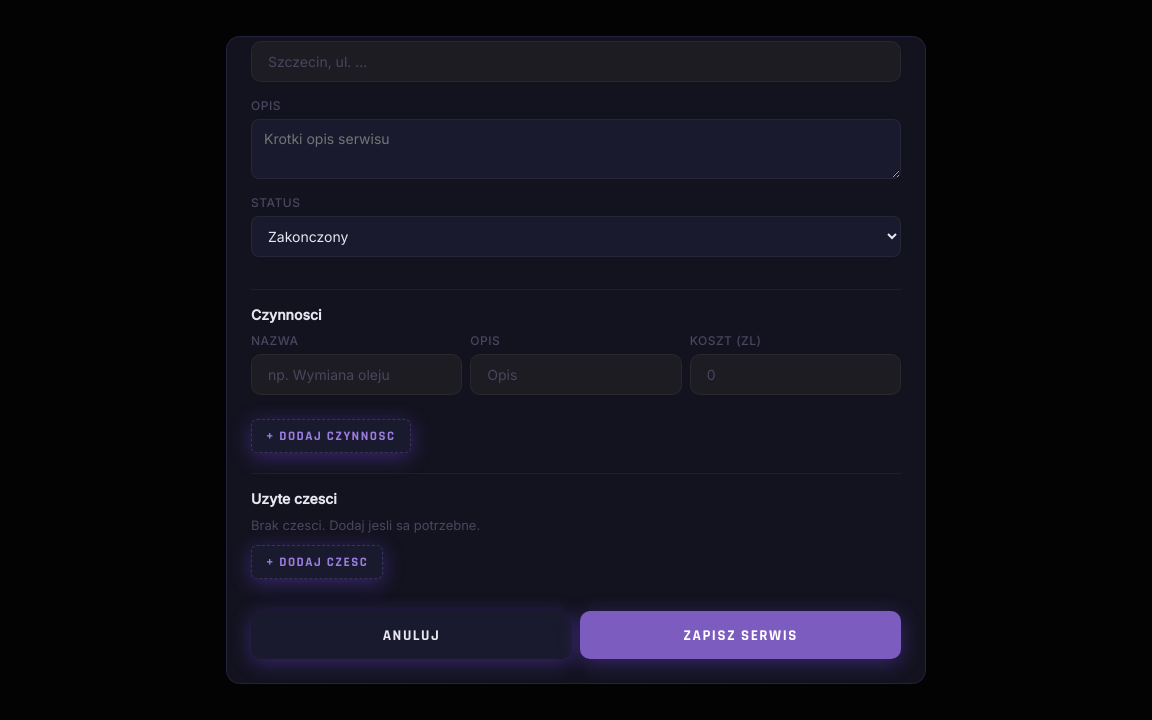
Test: ServiceForm › dodaje i usuwa czesc
(page scrolled)
Expected: the text "Brak czesci. Dodaj jesli sa potrzebne." is shown, [251,517,480,533]
Click the button "+ Dodaj czesc".
click(317, 562)  # box [251,545,383,579]
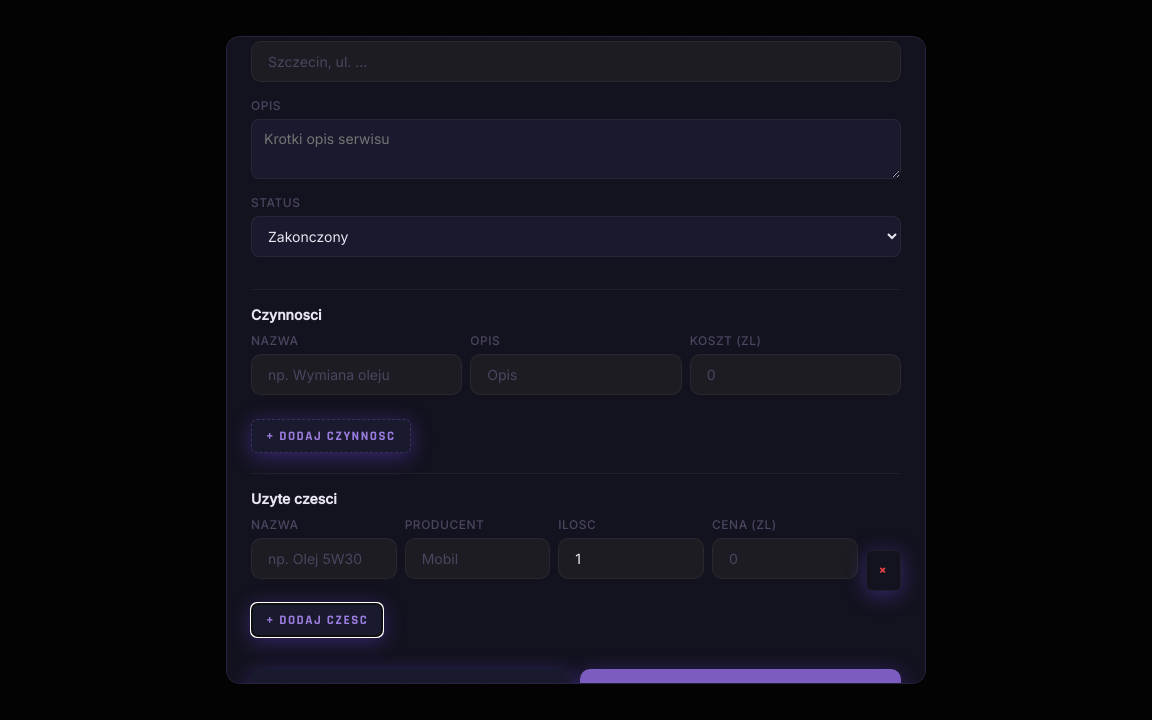
Now the field with placeholder "np. Olej 5W30" is shown, box [251,538,397,579]
Now the field with placeholder "Mobil" is shown, box [405,538,550,579]
Click the button "×".
click(883, 570)  # box [866,550,901,591]
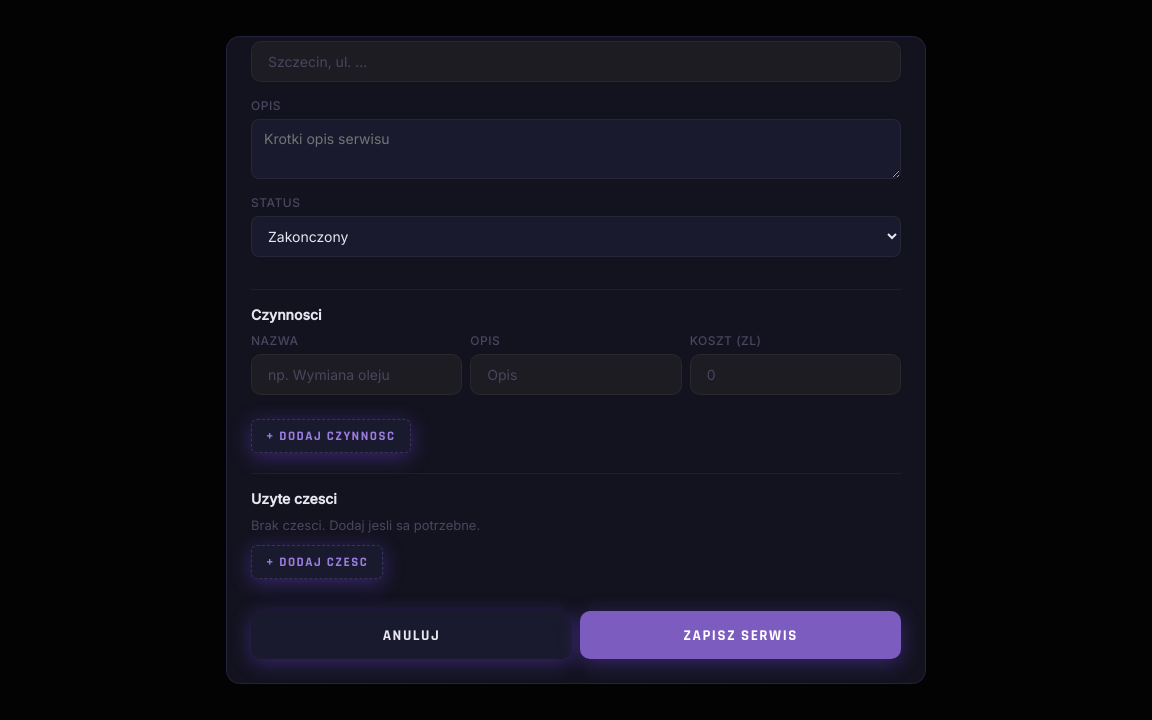
Now the text "Brak czesci. Dodaj jesli sa potrzebne." is shown, box [251,517,480,533]
